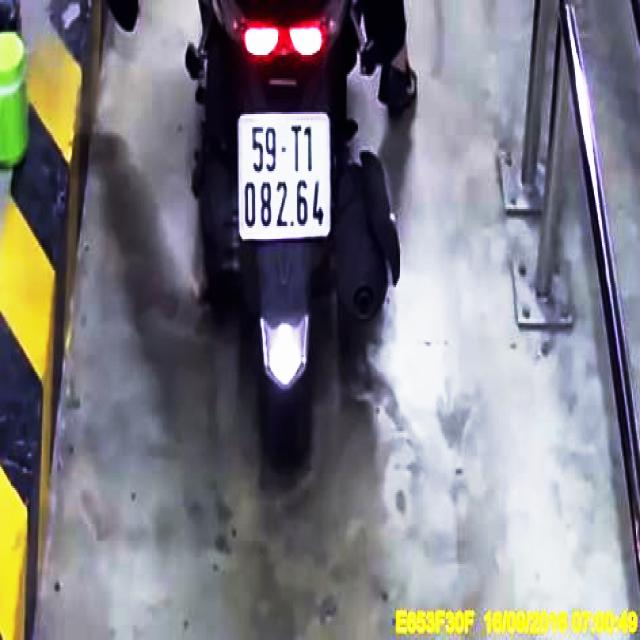license_plate: (236, 114, 329, 239)
